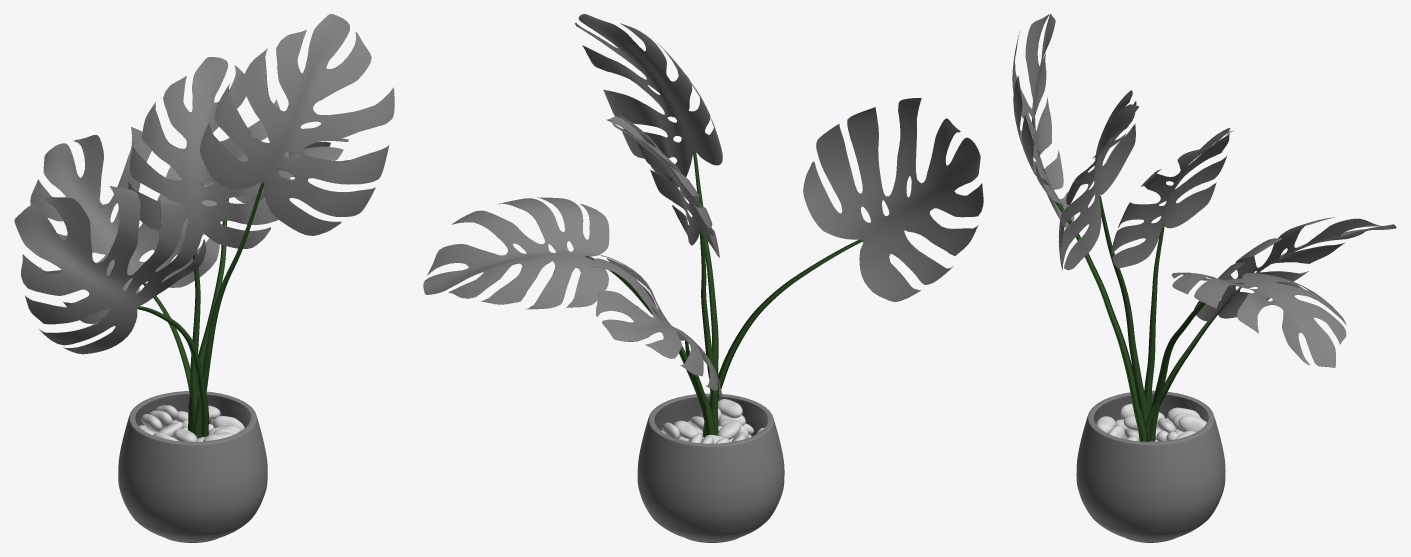
File: home_flower_FBX.FBX
3 views of the same model, side by side, from view 1: azimuth 30°, elevation 25°; view 2: azimuth 150°, elevation 25°; view 3: azimuth 270°, elevation 25° (orthographic).
Visible parts, largest first — view 1: home flower; view 2: home flower; view 3: home flower.
Part boxes in pixels (x1=…): home flower: x1=14, y1=14, x2=394, y2=542; home flower: x1=423, y1=14, x2=983, y2=542; home flower: x1=1012, y1=14, x2=1396, y2=542.
Size of the model in its own units: 23.38 by 24.87 by 17.87.
